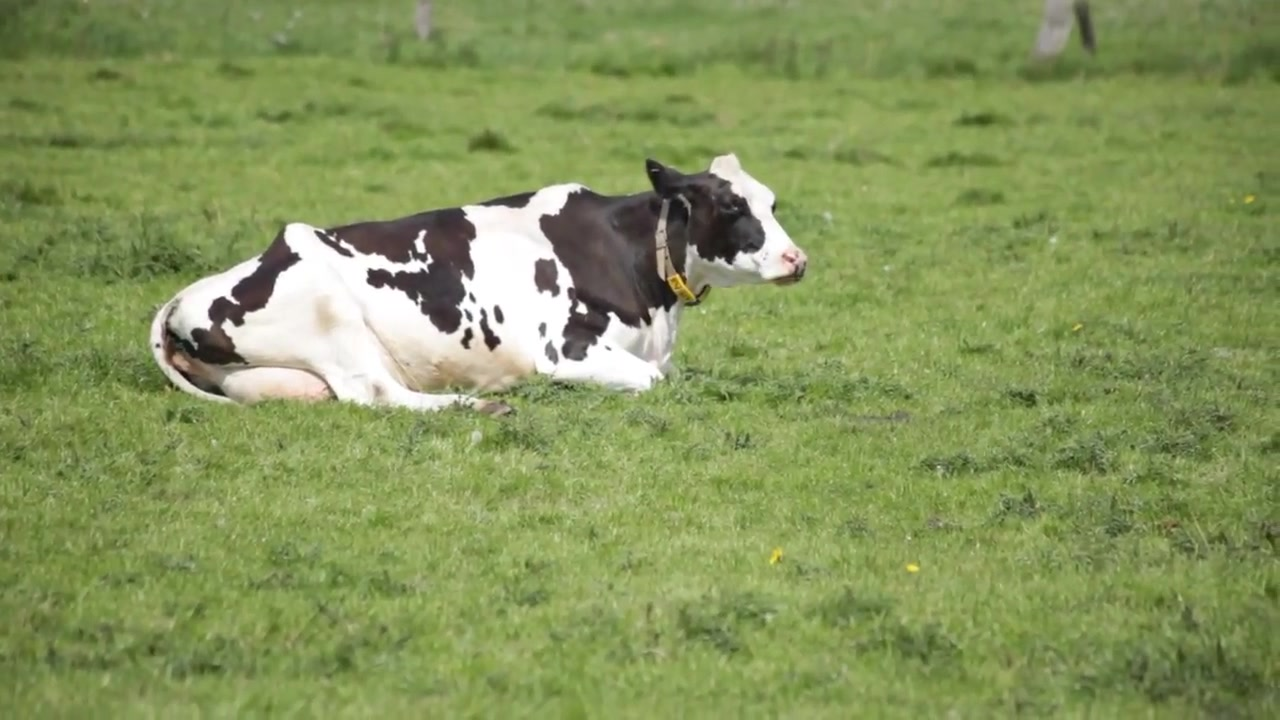cow: (151, 147, 806, 421)
